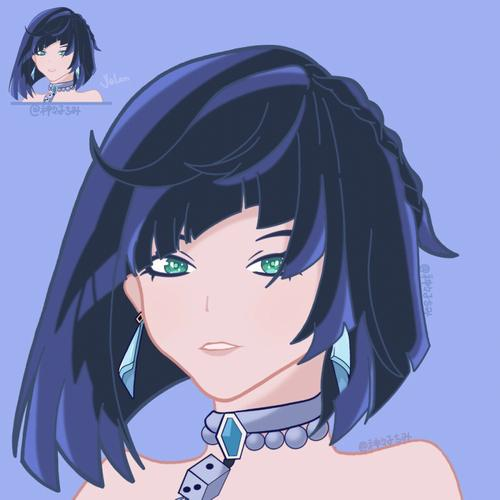夜兰: (70, 48, 462, 500), (11, 7, 109, 108)
